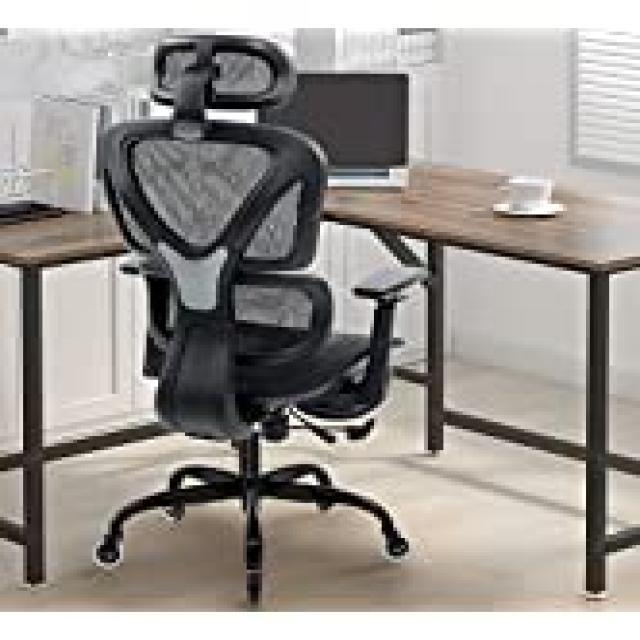chair: (77, 23, 430, 604)
